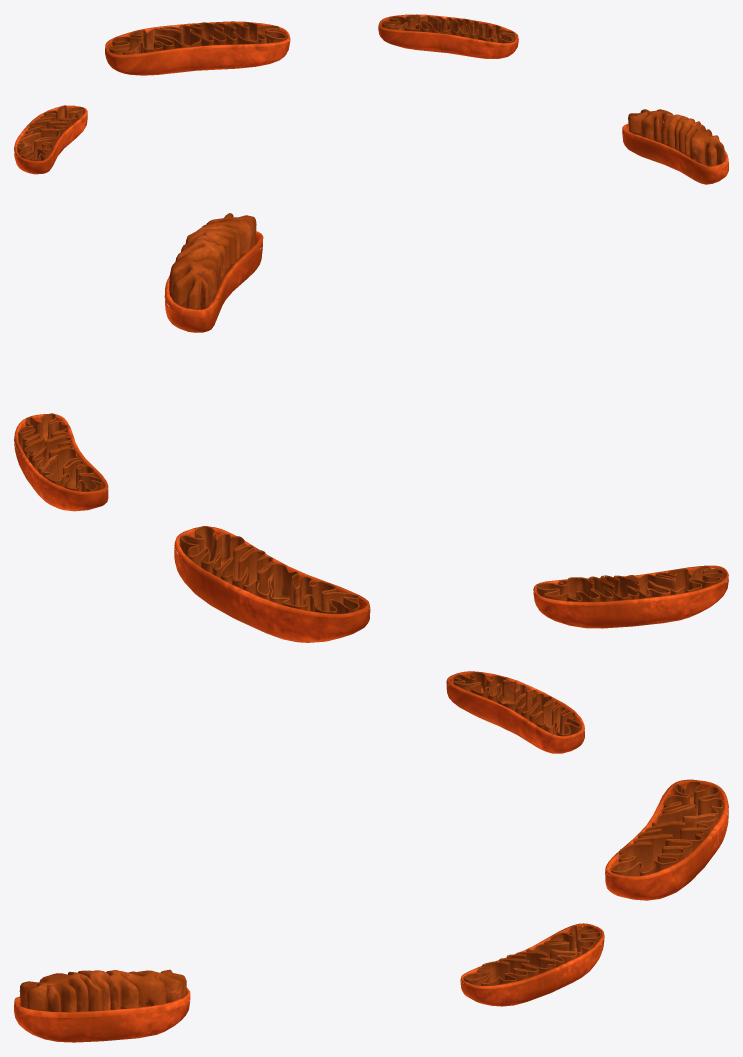
File: mitochondria.glb
3 renders of one model, top to bottom at view 1: azimuth 30°, elevation 25°; view 2: azimuth 150°, elevation 25°; view 3: azimuth 270°, elevation 25°, orthographic. The views are drawn at different scales.
Visible parts, largest first — view 1: mitochondria; view 2: mitochondria; view 3: mitochondria.
Boxes of the visible parts, x1,y1,x2,y2 form: mitochondria: (14, 14, 728, 184); mitochondria: (14, 213, 728, 642); mitochondria: (14, 671, 728, 1042).
Bounding box in the file's own units: 4.64 × 0.4315 × 4.15.
4 materials, 4 textured.
